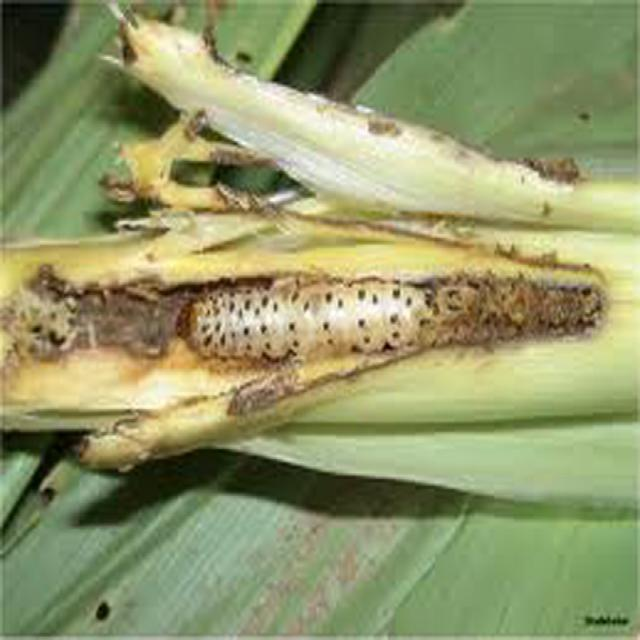cornborer-Larva-: (169, 255, 510, 369)
